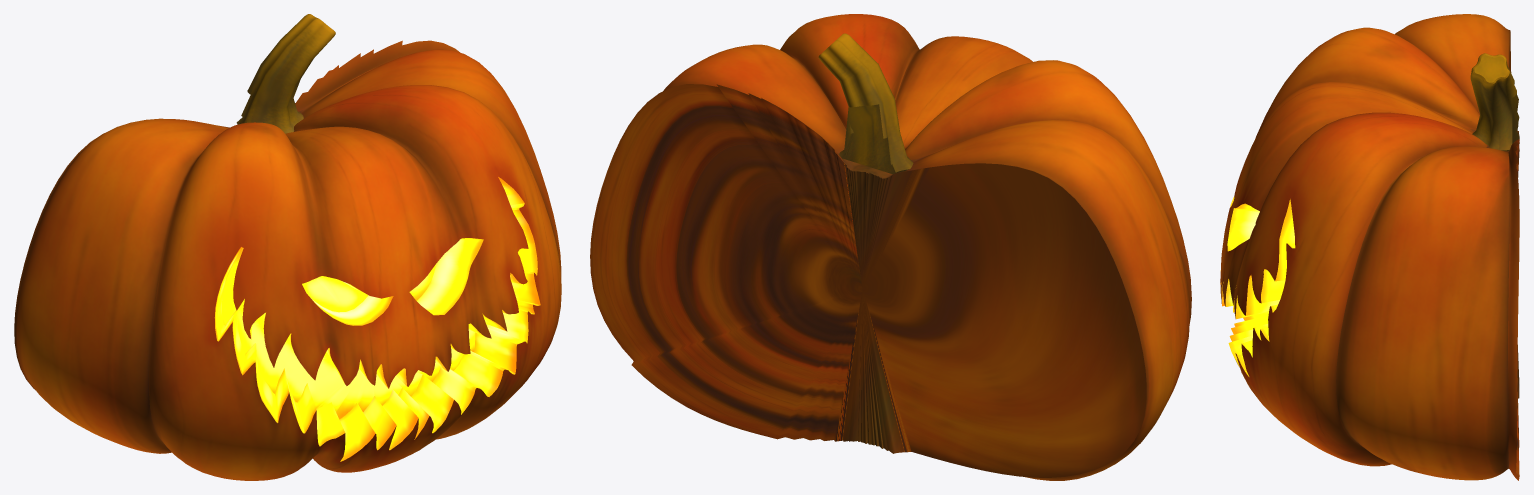
The model's file is Pumpkin_01.fbx.
The picture shows the model from 3 angles, left to right: view 1: azimuth 30°, elevation 25°; view 2: azimuth 150°, elevation 25°; view 3: azimuth 270°, elevation 25°; orthographic projection. The views are drawn at different scales.
Visible parts, largest first — view 1: Pumpkin1; view 2: Pumpkin1; view 3: Pumpkin1.
Boxes of the visible parts, x1,y1,x2,y2 form: Pumpkin1: (14,14,561,480); Pumpkin1: (590,14,1191,480); Pumpkin1: (1220,14,1519,480).
Size of the model in its own units: 530 by 383 by 271.
